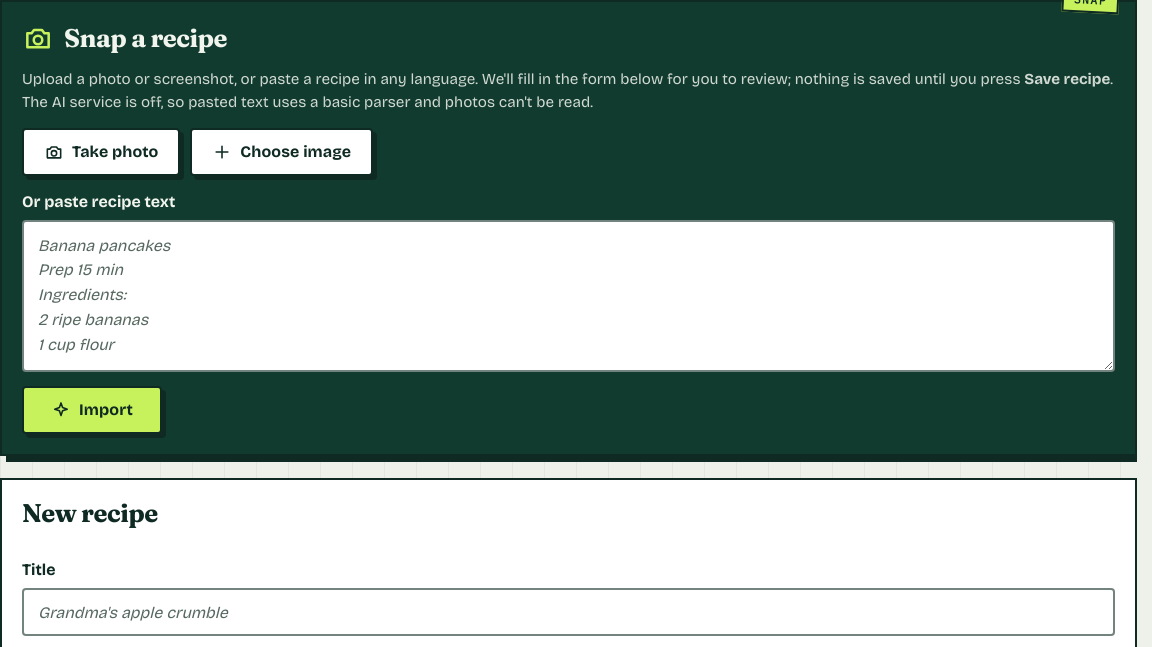
Test case: Snap-a-recipe import › asks before importing nothing
The width and height of the screenshot is (1152, 647).
Click the button "Import": coordinates (92, 410) [22, 386, 162, 434]
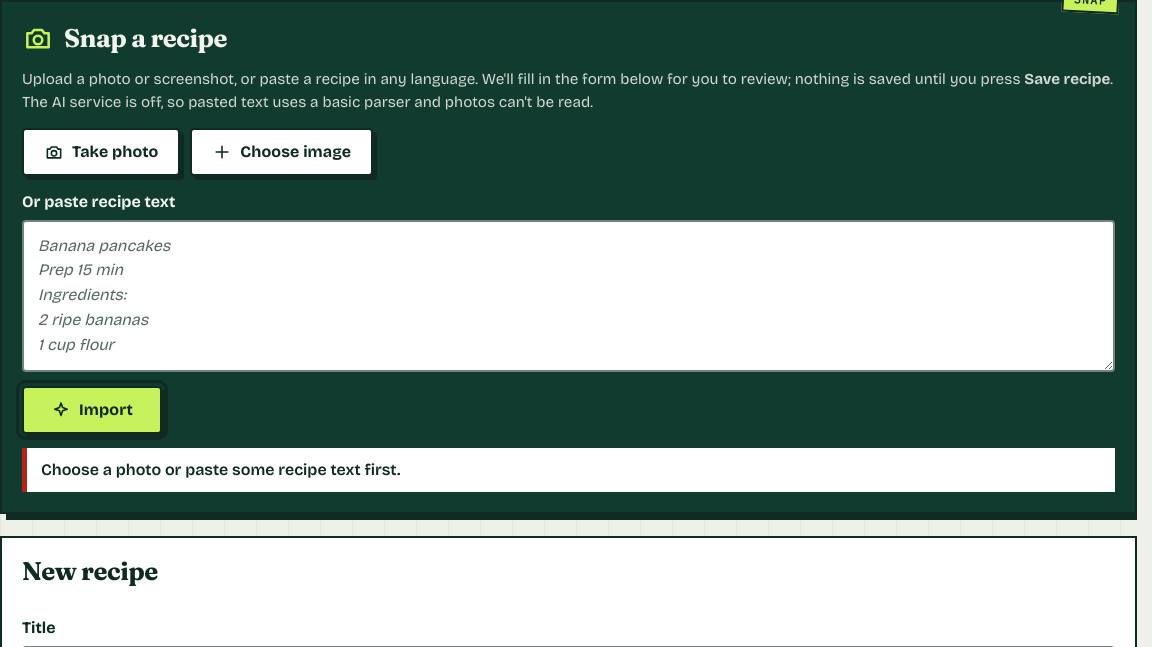
Expected: the message reads "Choose a photo or paste some recipe text first.", [41, 460, 400, 479]
